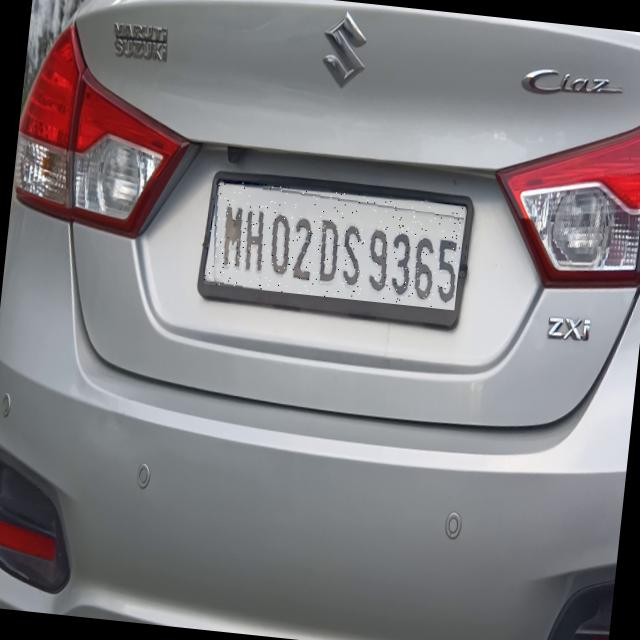Plate: (204, 180, 466, 312)
